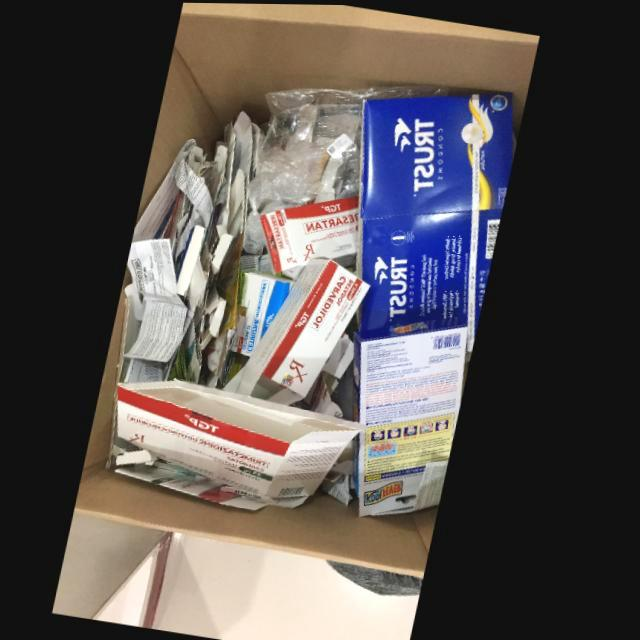cardboard: (362, 89, 519, 355), (123, 111, 263, 389), (121, 380, 374, 508), (230, 258, 375, 419), (359, 326, 473, 517), (118, 444, 314, 510), (264, 195, 367, 281), (236, 272, 301, 357)
paper: (130, 239, 193, 362)
